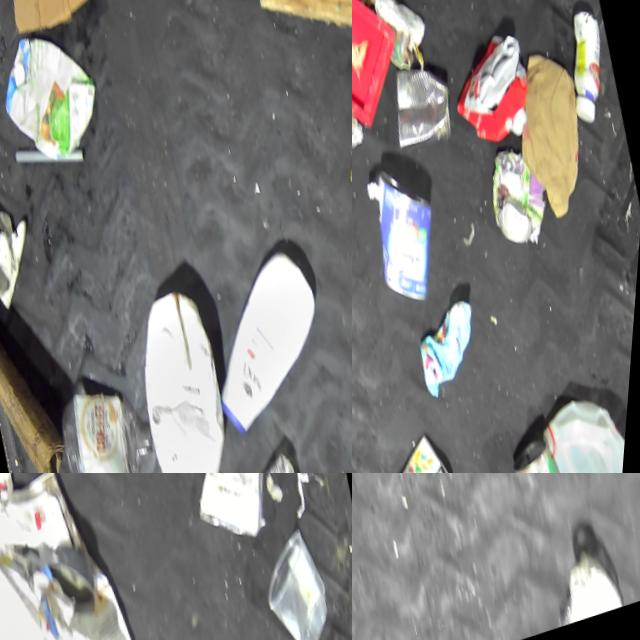can: (358, 160, 464, 323), (477, 144, 565, 267), (381, 58, 467, 165), (43, 541, 111, 631), (379, 431, 484, 473), (510, 437, 585, 473)
milk_jug: (117, 278, 263, 473), (538, 389, 636, 473)
